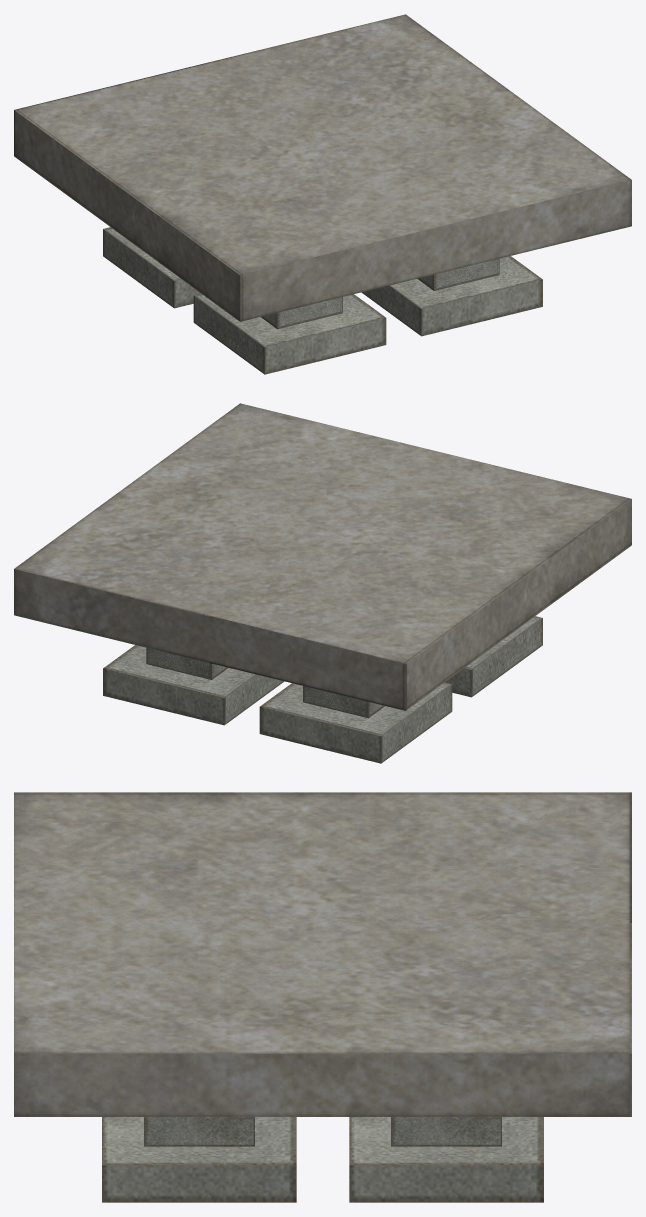
The model's file is altar_lrg_x4.fbx.
The picture shows the model from 3 angles, top to bottom: view 1: azimuth 30°, elevation 25°; view 2: azimuth 150°, elevation 25°; view 3: azimuth 270°, elevation 25°; orthographic projection. The views are drawn at different scales.
Parts seen in each view (by area): view 1: alter_lrg_x4; view 2: alter_lrg_x4; view 3: alter_lrg_x4.
Boxes of the visible parts, x1,y1,x2,y2 form: alter_lrg_x4: (14, 14, 631, 374); alter_lrg_x4: (14, 403, 631, 763); alter_lrg_x4: (14, 792, 631, 1202).
Bounding box in the file's own units: 150 × 50 × 150.
